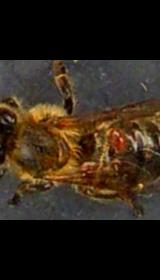varroa_mite: (106, 120, 128, 166)
